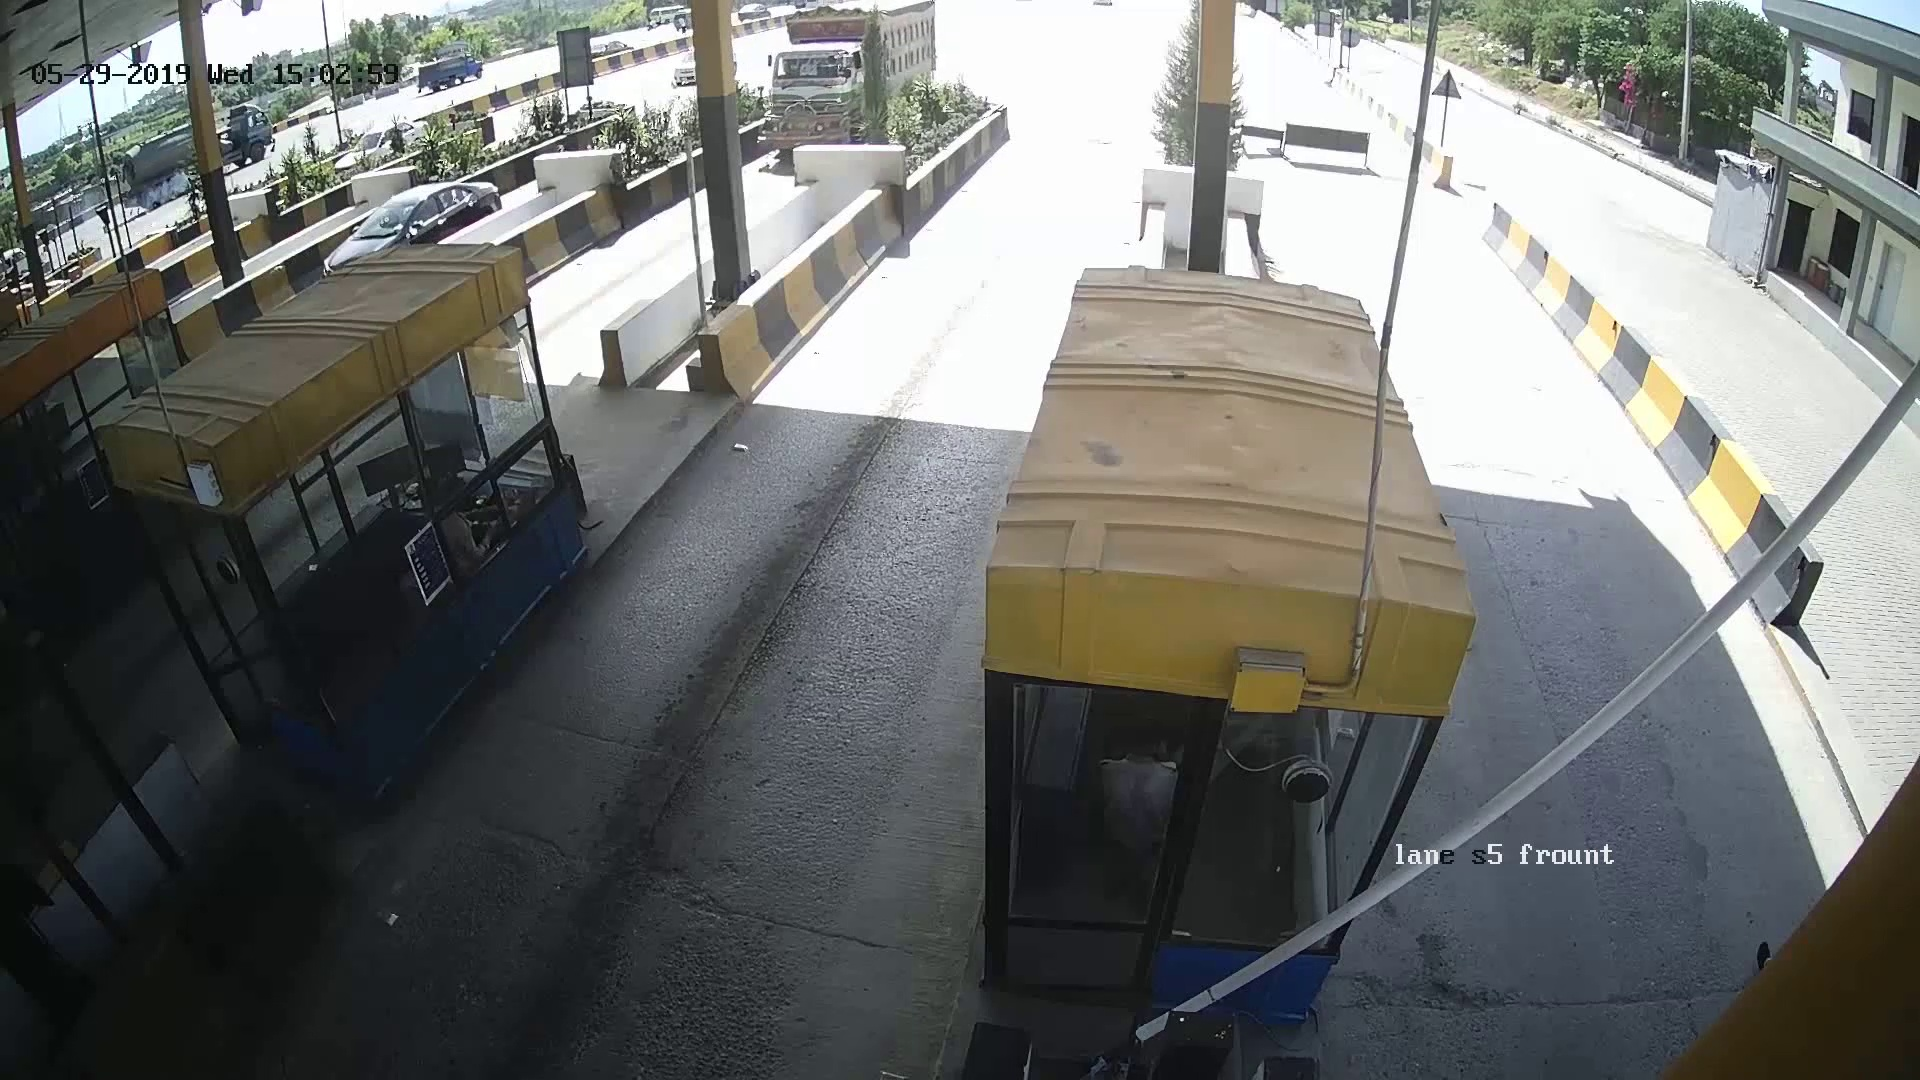truck: (781, 25, 861, 113)
